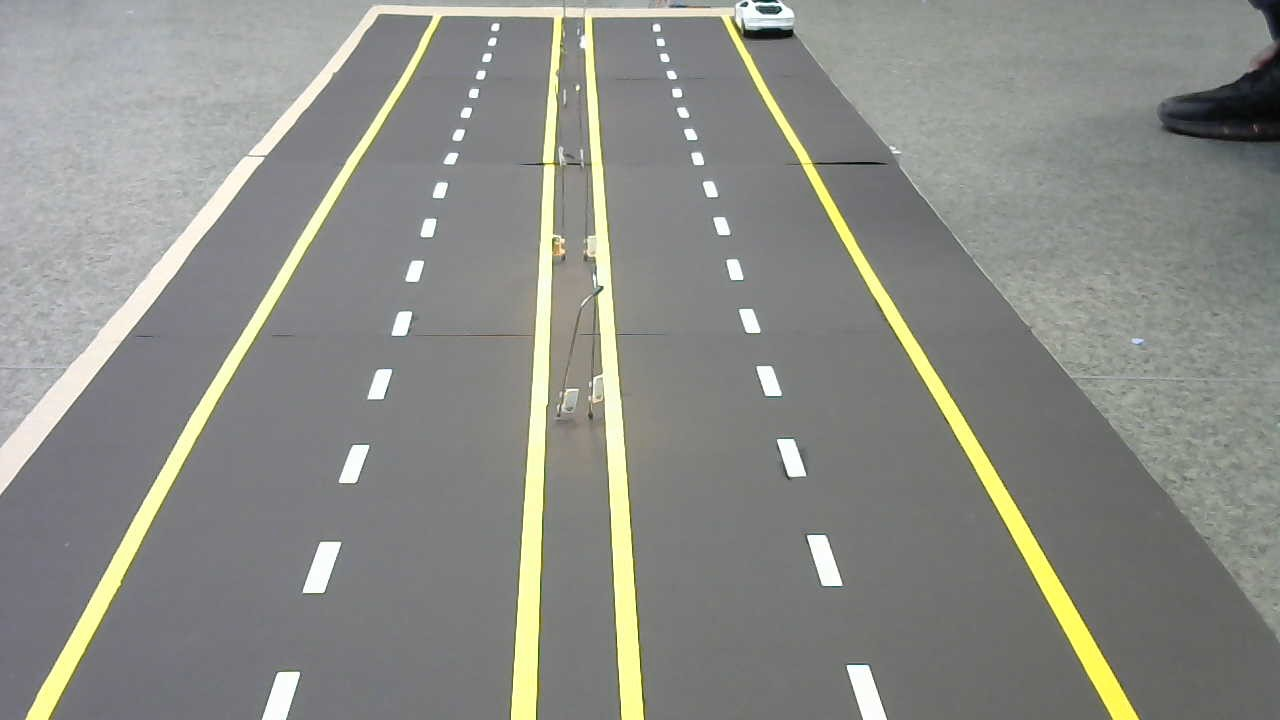back_car: (727, 1, 798, 36)
